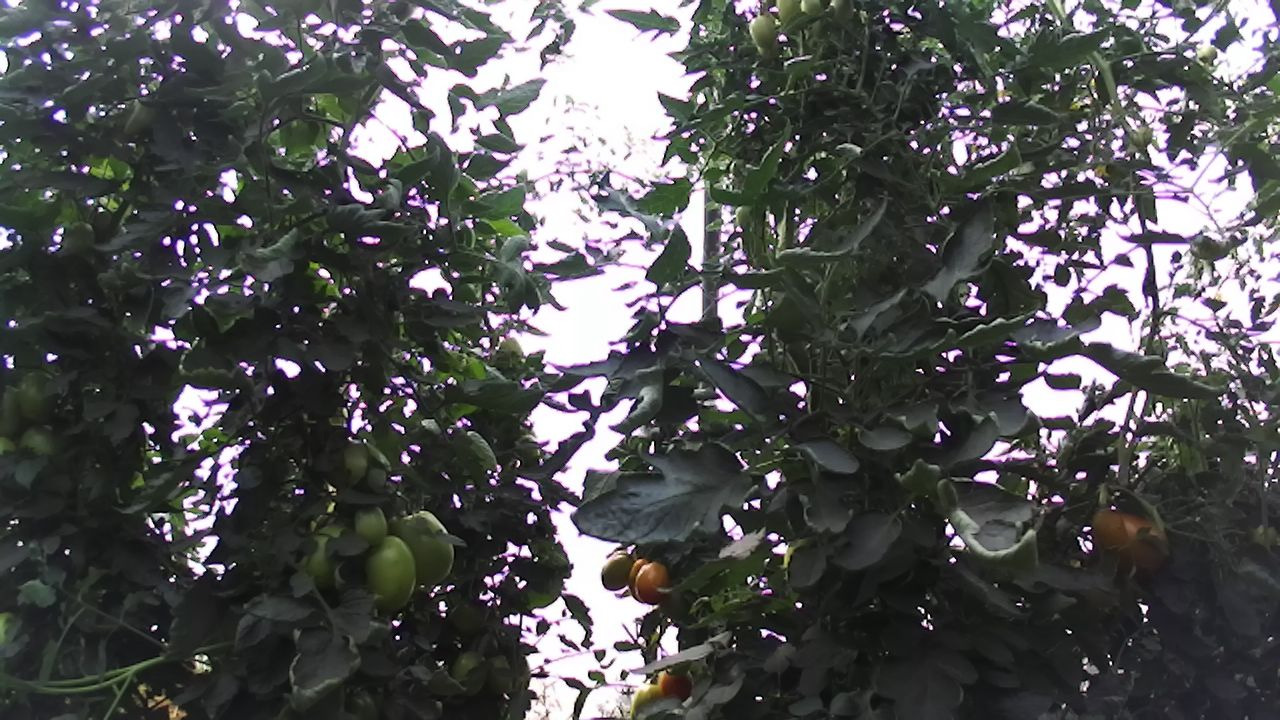tomato: (1085, 497, 1177, 580), (389, 503, 457, 588), (360, 531, 419, 615), (17, 367, 59, 427), (349, 503, 389, 551), (632, 557, 670, 606), (655, 668, 696, 706), (599, 552, 636, 592), (743, 8, 777, 51), (827, 0, 858, 28), (775, 0, 803, 27), (366, 463, 390, 491)
